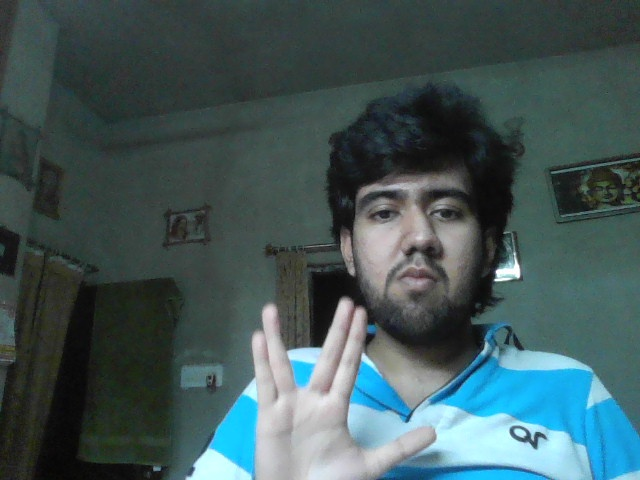LiveLong: (252, 295, 436, 480)
